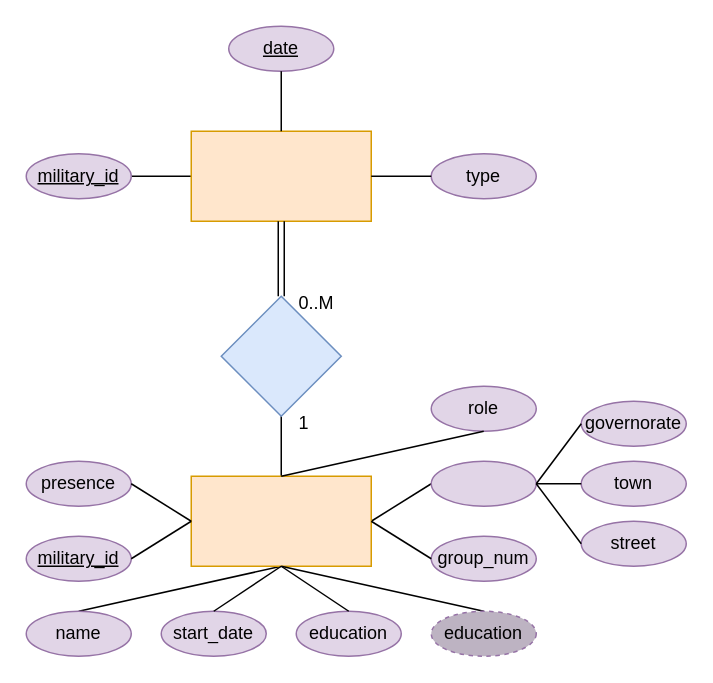
Image size: 713x683. Some labels were removed from this diagram. The box of each missing label's shape, as (x1, y1, x2, y2) in pixels:
address: (430, 460, 536, 506)
has: (220, 295, 341, 416)
Injury_Record: (190, 130, 371, 221)
Soldier: (190, 475, 371, 566)
